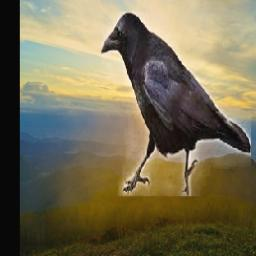Crow: (100, 12, 250, 196)
